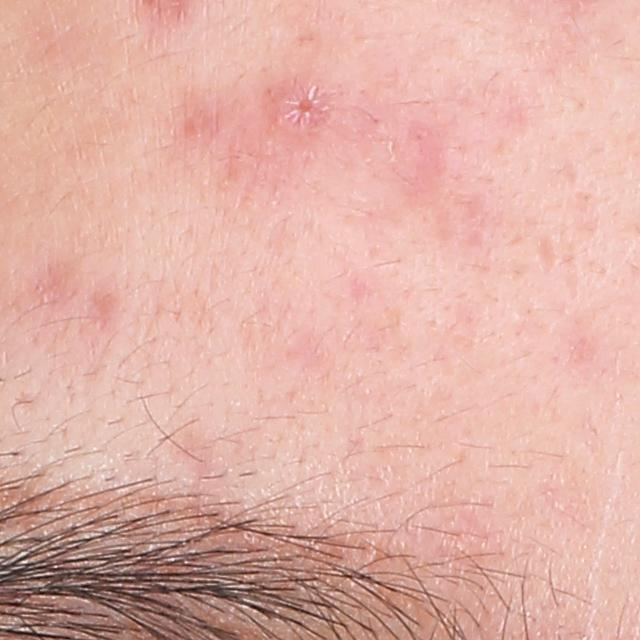atrophic_scar: (537, 232, 557, 279)
papule: (265, 80, 328, 131)
